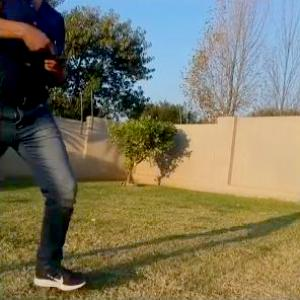follow: (0, 0, 92, 293)
